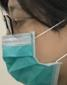with_mask: (2, 1, 67, 85)
